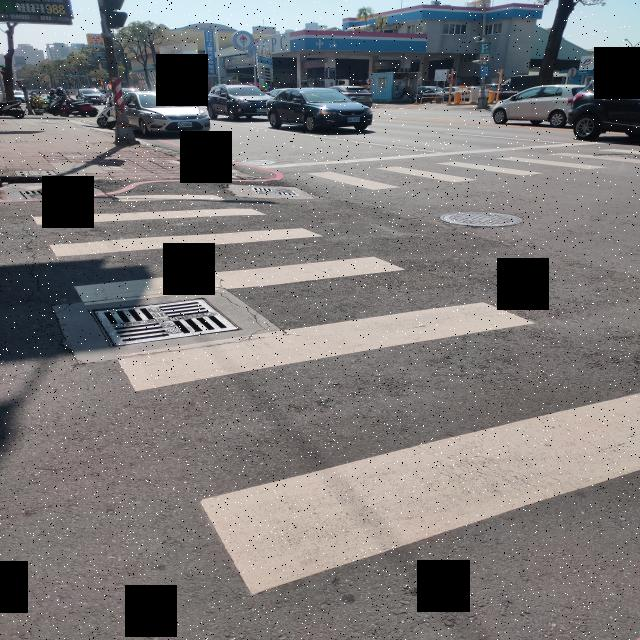zebra crossing: (47, 191, 640, 595), (313, 143, 640, 195)
